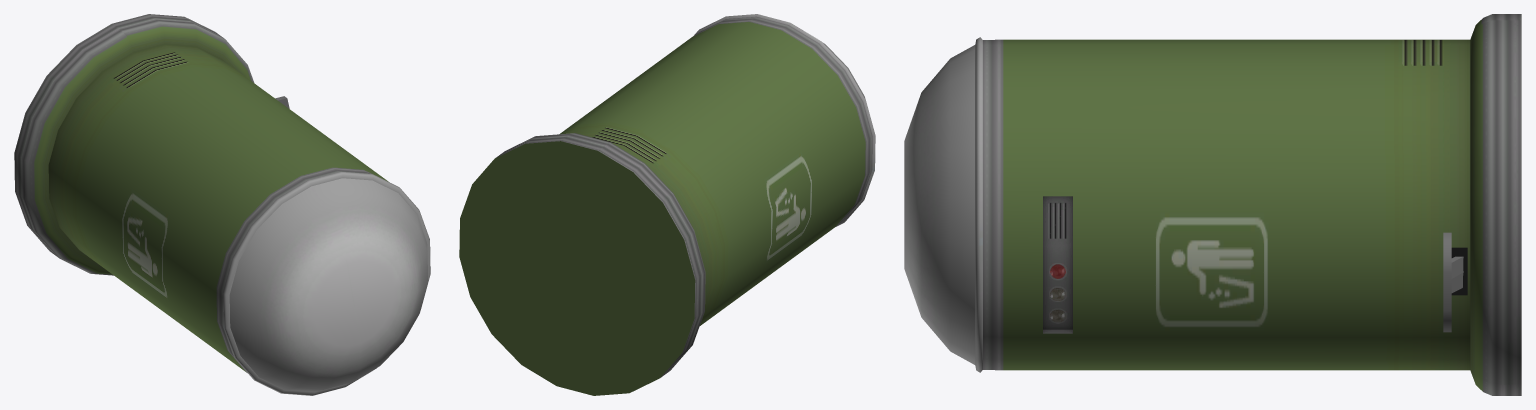
The model's file is nt_trash_compactor_green_LOD0.obj.
The picture shows the model from 3 angles, left to right: view 1: azimuth 30°, elevation 25°; view 2: azimuth 150°, elevation 25°; view 3: azimuth 270°, elevation 25°; orthographic projection. The views are drawn at different scales.
Parts seen in each view (by area): view 1: mtl_nt_trash_compactor; view 2: mtl_nt_trash_compactor; view 3: mtl_nt_trash_compactor.
Part boxes in pixels (bbox=[...]): mtl_nt_trash_compactor: bbox=[14, 14, 430, 395]; mtl_nt_trash_compactor: bbox=[459, 14, 875, 395]; mtl_nt_trash_compactor: bbox=[904, 14, 1521, 395].
Size of the model in its own units: 61.67 by 58.17 by 94.8.
